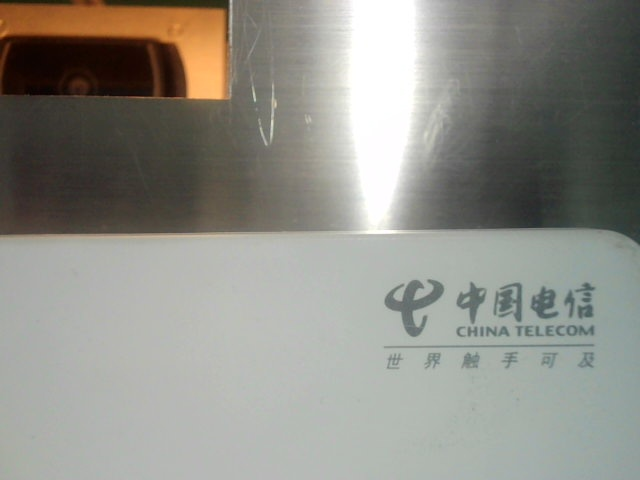AB_ChinaTelecom: (371, 270, 611, 382)
